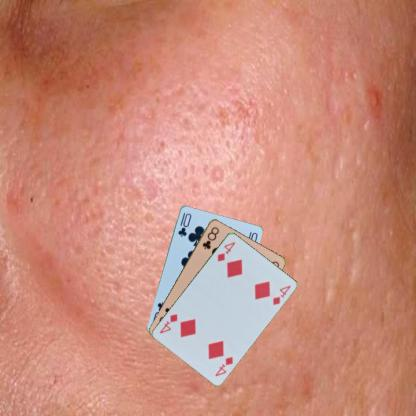10c: (175, 210, 192, 238)
4d: (214, 239, 236, 263), (213, 354, 235, 377)
8c: (200, 224, 220, 250)
